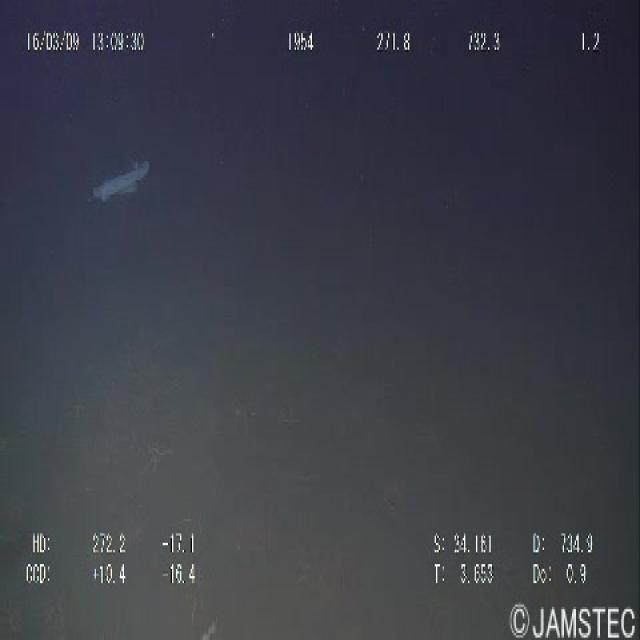plastic: (75, 144, 160, 216)
